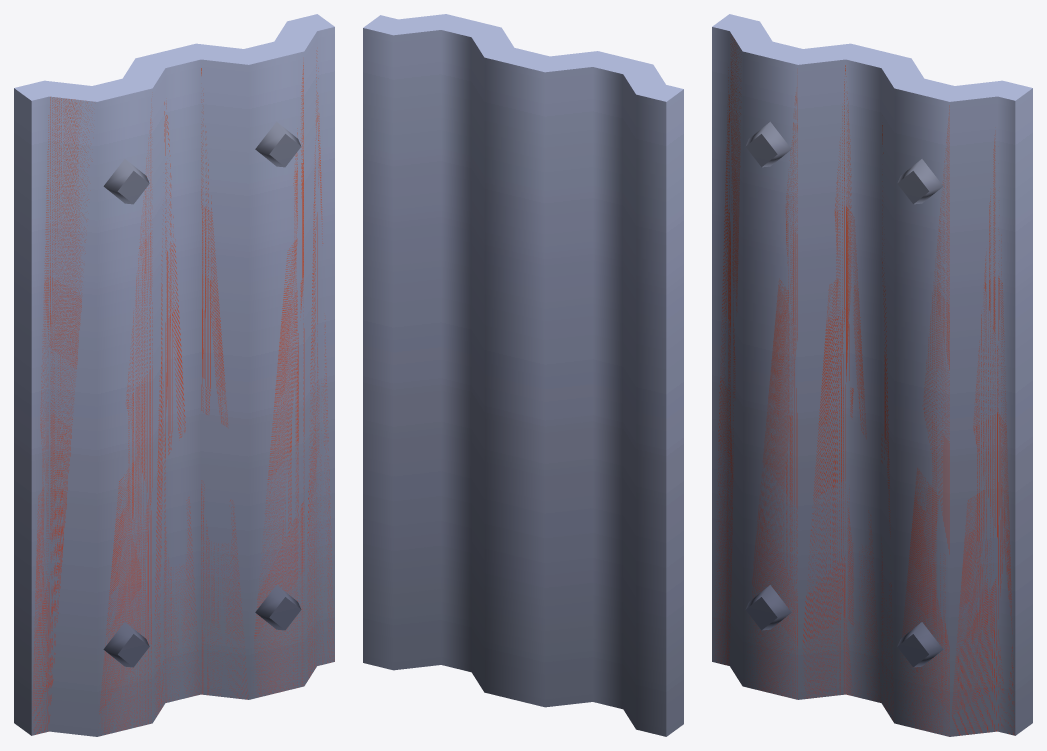
The model's file is metal-panel-screws-narrow.glb.
3 views of the same model, side by side, from view 1: azimuth 30°, elevation 25°; view 2: azimuth 150°, elevation 25°; view 3: azimuth 330°, elevation 25° (orthographic).
Visible parts, largest first — view 1: metal-panel-screws-narrow; view 2: metal-panel-screws-narrow; view 3: metal-panel-screws-narrow.
Part boxes in pixels (bbox=[...]): metal-panel-screws-narrow: bbox=[14, 14, 334, 736]; metal-panel-screws-narrow: bbox=[363, 14, 683, 736]; metal-panel-screws-narrow: bbox=[712, 14, 1032, 736].
Bounding box in the file's own units: 0.25 × 0.5 × 0.0625.
1 material, 1 textured.
